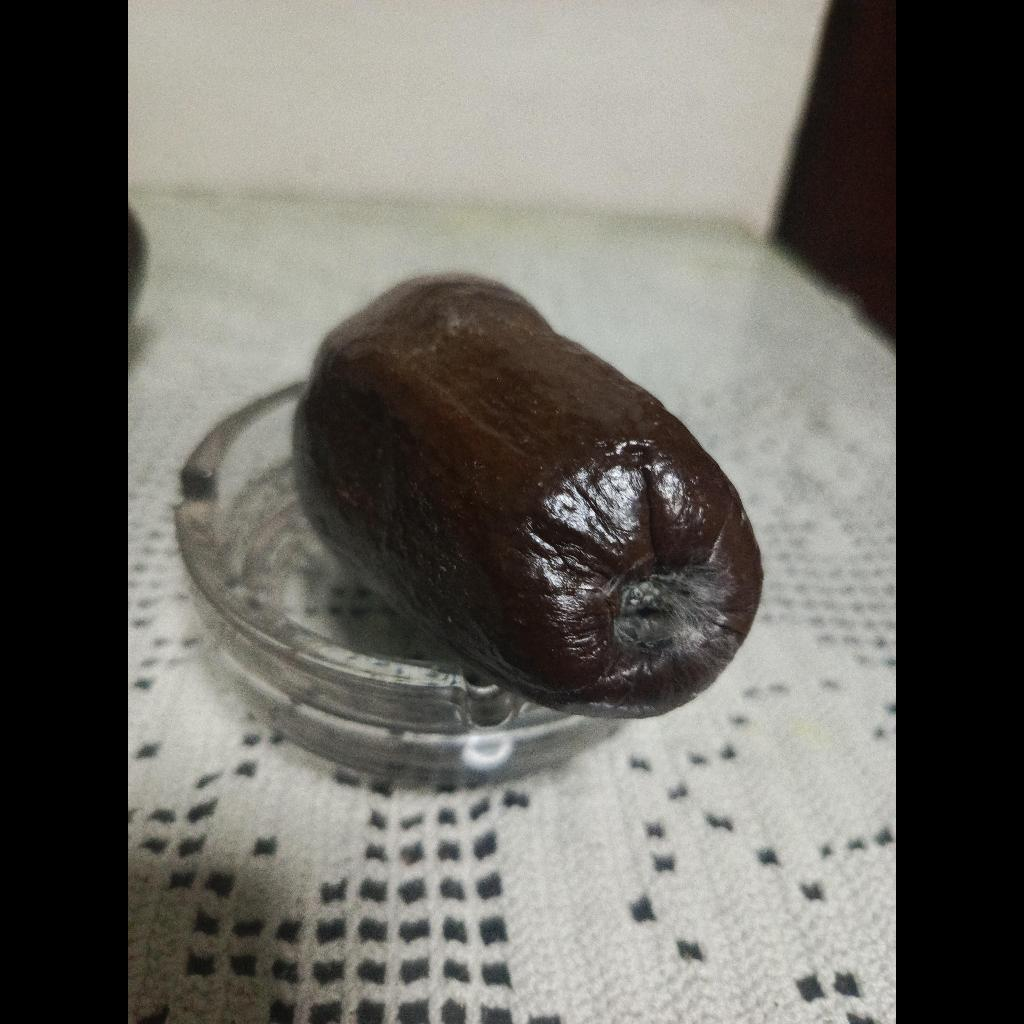stem end rot: (293, 275, 762, 717)
